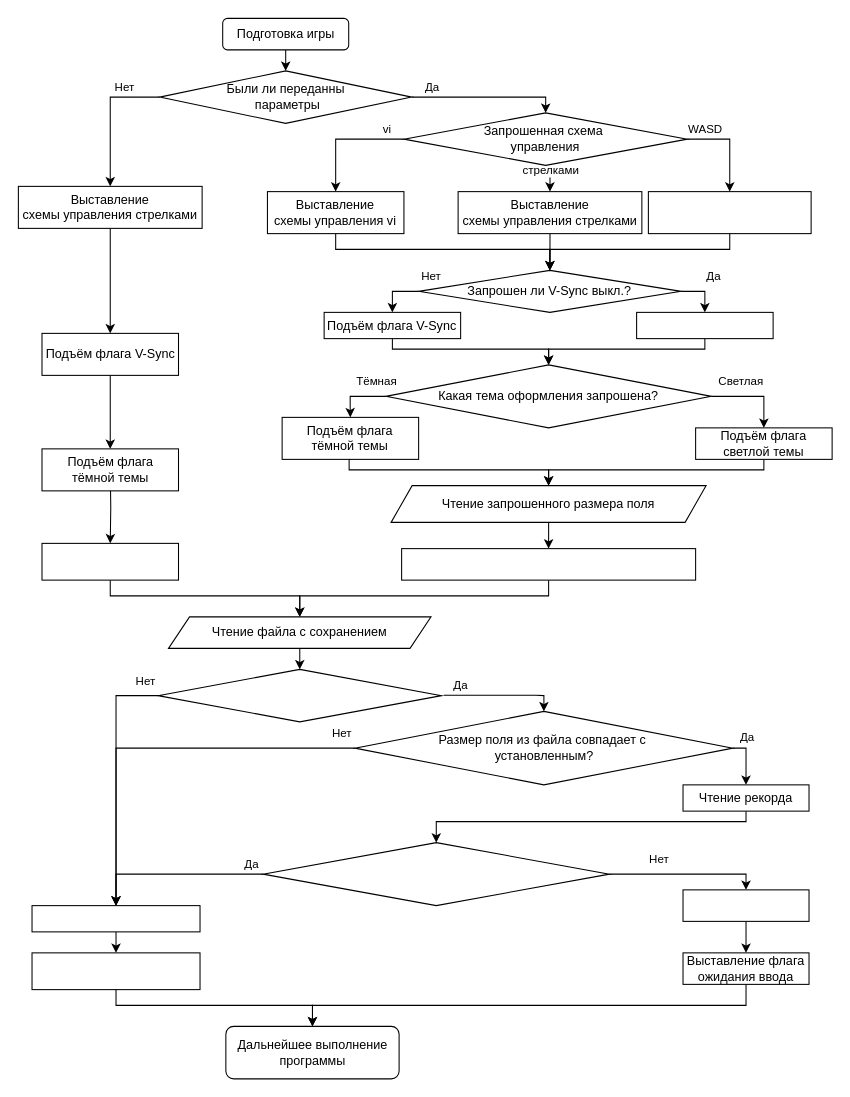
Some shapes in this 850 by 1097 pixel diagram are drawn without their labels. Each missing label, with the centre of its shape:
"Выставление схемы управления WASD" belongs at (x=729, y=212).
"Обнуление игрового поля" belongs at (x=115, y=918).
"Подъём флага добавления элемента" belongs at (x=115, y=971).
"Прошлая игра закончилась переполнением" belongs at (x=436, y=874).
"Сброс флага V-Sync" belongs at (x=704, y=325).
"Удалось ли прочитать файл" belongs at (x=299, y=695).
"Установка размера поля 4" belongs at (x=109, y=561).
"Установка соответствующего размера поля" belongs at (x=548, y=564).
"Чтение очков и поля" belongs at (x=745, y=905).
